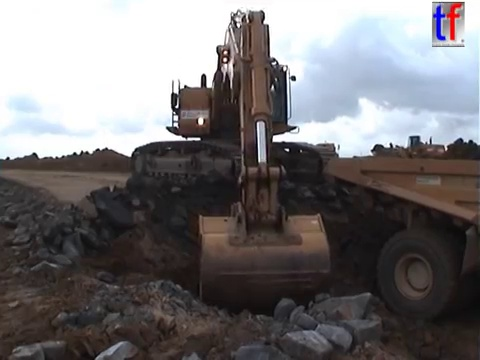excavator: (126, 6, 345, 308)
truck: (322, 153, 480, 325)
wheel loader: (368, 133, 447, 170)
